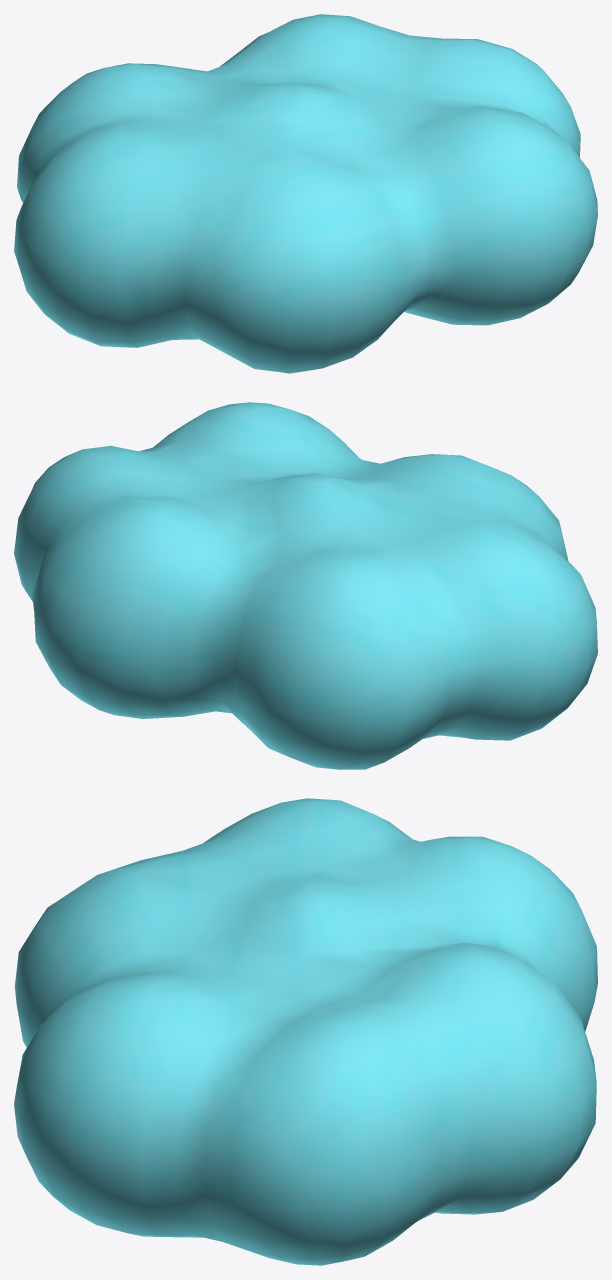
File: CloudSmall.fbx
3 views of the same model, one above another, from view 1: azimuth 30°, elevation 25°; view 2: azimuth 150°, elevation 25°; view 3: azimuth 270°, elevation 25° (orthographic). The views are drawn at different scales.
Parts seen in each view (by area): view 1: Retopo_Icosphere.004; view 2: Retopo_Icosphere.004; view 3: Retopo_Icosphere.004.
Boxes of the visible parts, <box> form: Retopo_Icosphere.004: <box>14,14,597,373</box>; Retopo_Icosphere.004: <box>14,402,597,769</box>; Retopo_Icosphere.004: <box>14,798,597,1265</box>.
Bounding box in the file's own units: 248 × 93.86 × 191.
